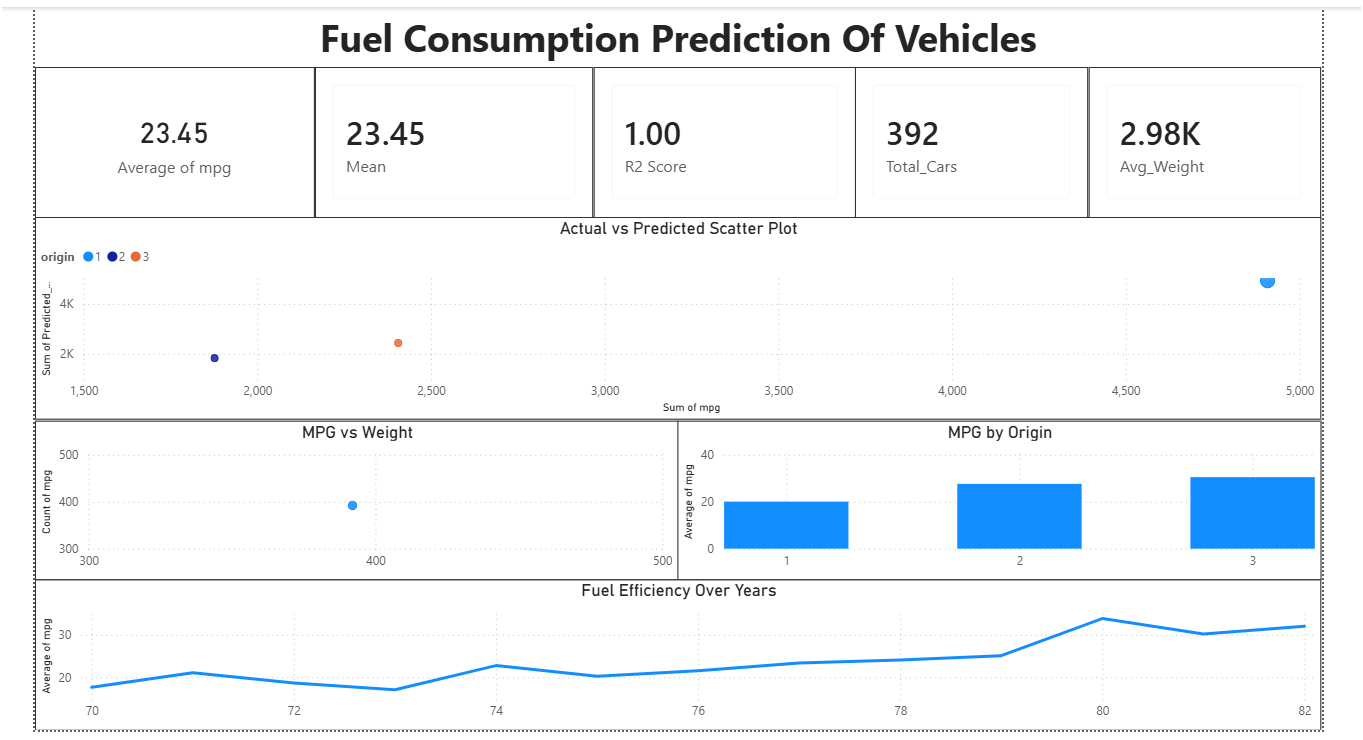

The page's visual inventory and layout, read from the dashboard file:
{"tool":"powerbi","page":{"name":"Page 1","canvas":[1280,720],"ordinal":0},"visuals":[{"type":"textbox","box":[0,0,1280,59.7],"z":0},{"type":"cardVisual","fields":{"Data":["auto-mpg.Mean"]},"box":[278.5,59.2,277,150],"z":2},{"type":"card","fields":{"Values":["Avg(auto-mpg.mpg)"]},"box":[0,59.2,278.5,150],"z":3},{"type":"cardVisual","fields":{"Data":["auto-mpg.R2 Score"]},"box":[555.5,59.2,261.1,150],"z":4},{"type":"cardVisual","fields":{"Data":["auto-mpg.Total_Cars"]},"box":[816.6,59.2,232.3,150],"z":5},{"type":"cardVisual","fields":{"Data":["auto-mpg.Avg_Weight"]},"box":[1048.9,59.2,230.8,150],"z":6},{"type":"scatterChart","title":"Actual vs Predicted Scatter Plot","fields":{"Series":["auto-mpg.origin"],"Size":["Sum(auto-mpg.weight)"],"X":["Sum(auto-mpg.mpg)"],"Y":["Sum(auto-mpg.Predicted_MPG)"]},"box":[0,209.2,1279.7,202],"z":7},{"type":"scatterChart","title":"MPG vs Weight","fields":{"X":["CountNonNull(auto-mpg.weight)"],"Y":["CountNonNull(auto-mpg.mpg)"]},"box":[0,411.2,640.6,158.7],"z":8},{"type":"clusteredColumnChart","title":"MPG by Origin","fields":{"Category":["auto-mpg.origin"],"Y":["Avg(auto-mpg.mpg)"]},"box":[639.1,411.2,640.6,158.7],"z":9},{"type":"lineChart","title":"Fuel Efficiency Over Years","fields":{"Category":["auto-mpg.model_year"],"Y":["Avg(auto-mpg.mpg)"]},"box":[0,569.9,1279.7,150],"z":10}]}

Visuals, with their boxes in screenshot pixels (x1, y1, x2, y2):
textbox: pyautogui.locateOnScreen(25, 0, 1319, 60)
cardVisual - auto-mpg.Mean: pyautogui.locateOnScreen(306, 60, 587, 212)
card - Avg(auto-mpg.mpg): pyautogui.locateOnScreen(25, 60, 306, 212)
cardVisual - auto-mpg.R2 Score: pyautogui.locateOnScreen(587, 60, 851, 212)
cardVisual - auto-mpg.Total_Cars: pyautogui.locateOnScreen(851, 60, 1086, 212)
cardVisual - auto-mpg.Avg_Weight: pyautogui.locateOnScreen(1086, 60, 1319, 212)
"Actual vs Predicted Scatter Plot" scatterChart: pyautogui.locateOnScreen(25, 212, 1319, 416)
"MPG vs Weight" scatterChart: pyautogui.locateOnScreen(25, 416, 673, 576)
"MPG by Origin" clusteredColumnChart: pyautogui.locateOnScreen(671, 416, 1319, 576)
"Fuel Efficiency Over Years" lineChart: pyautogui.locateOnScreen(25, 576, 1319, 728)
